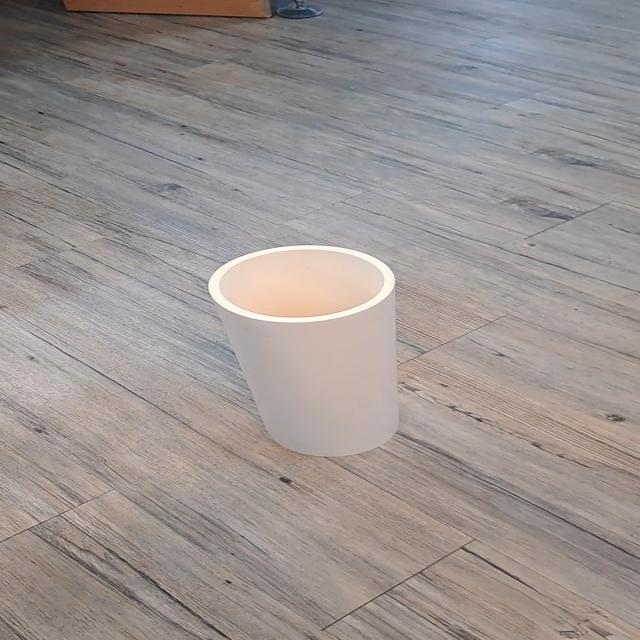CORAL: (160, 244, 490, 474)
